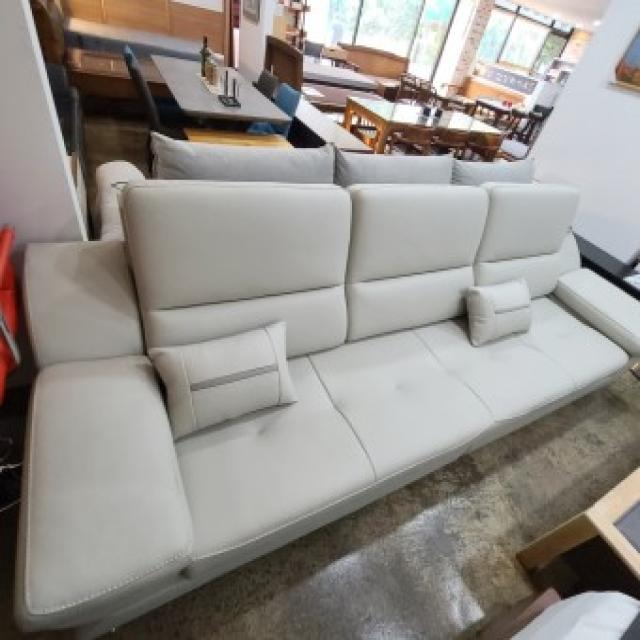Sofa: (10, 175, 632, 604)
Table: (150, 51, 287, 128), (342, 91, 507, 154)
